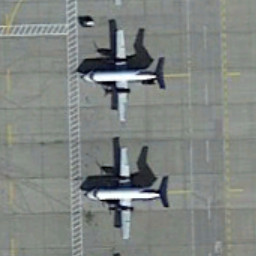Airplane: (71, 23, 177, 132), (77, 143, 177, 242)
